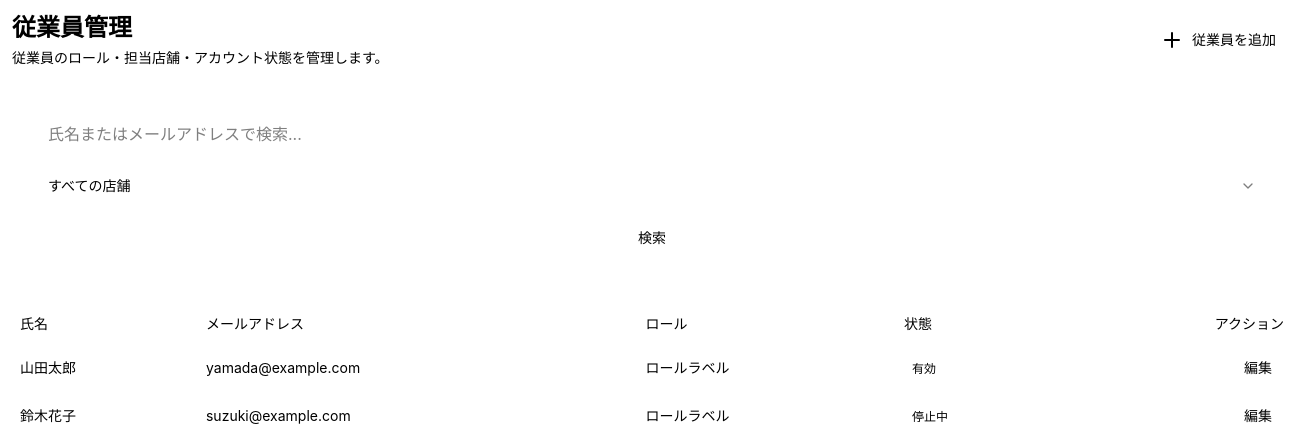
Test: 従業員管理ページ › 店舗で絞り込んで 0 件のときは「該当なし」の文言を出すこと
Check: the text "山田太郎" is shown, box [12,344,198,392]
Click the dropdown named "店舗で絞り込む" at (89,186), box [36,168,1268,204]
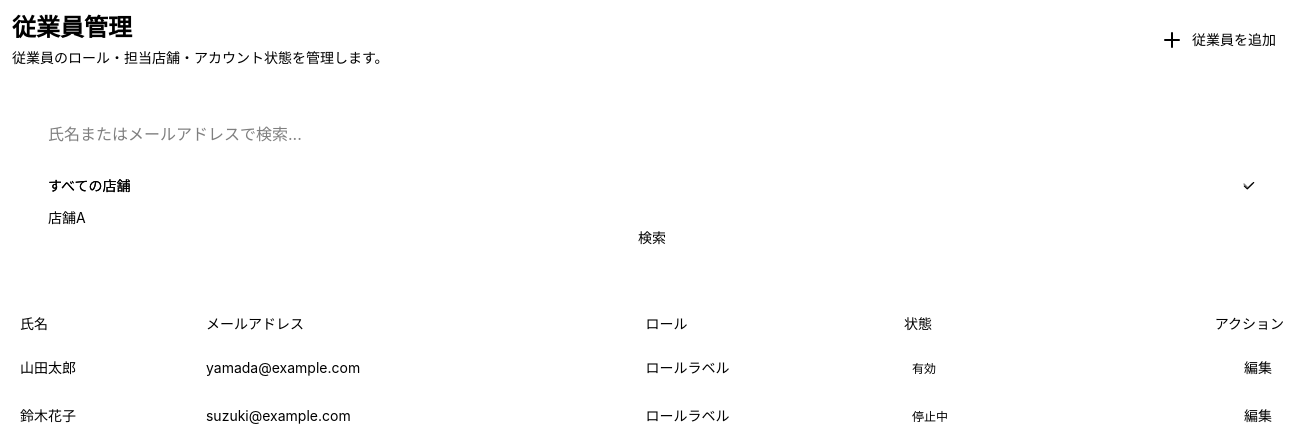
Click the option "店舗A" at (67,218), box [48,209,86,226]
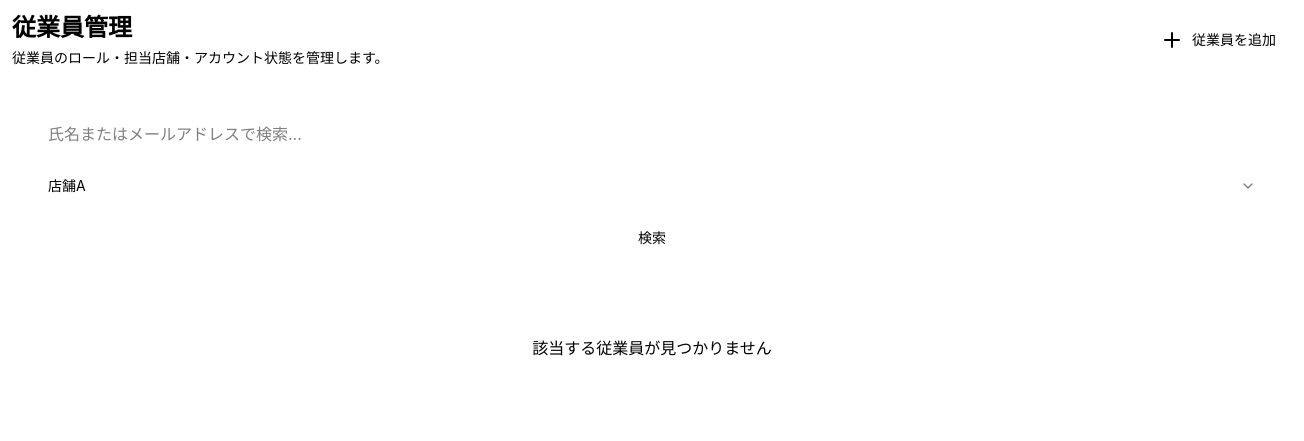
Check: the text "該当する従業員が見つかりません" is shown, box [532,338,772,358]
